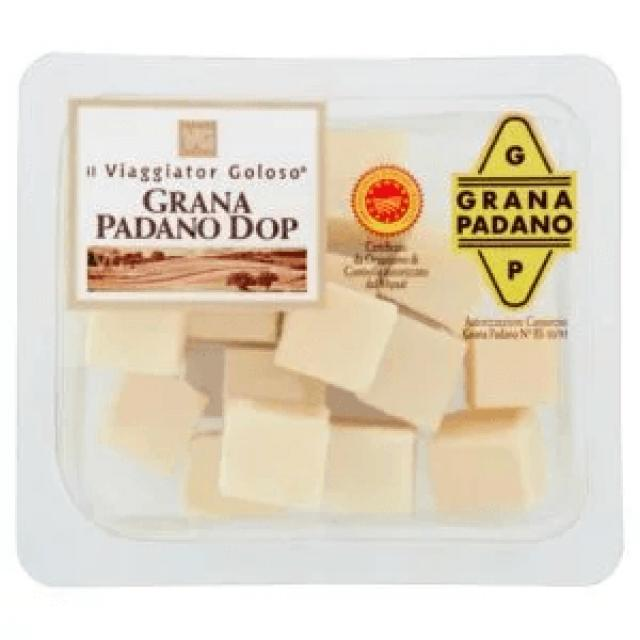Cheese: (11, 51, 640, 595)
